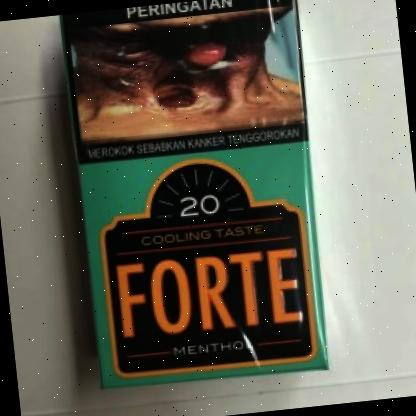bungkus rokok: (52, 0, 345, 396)
